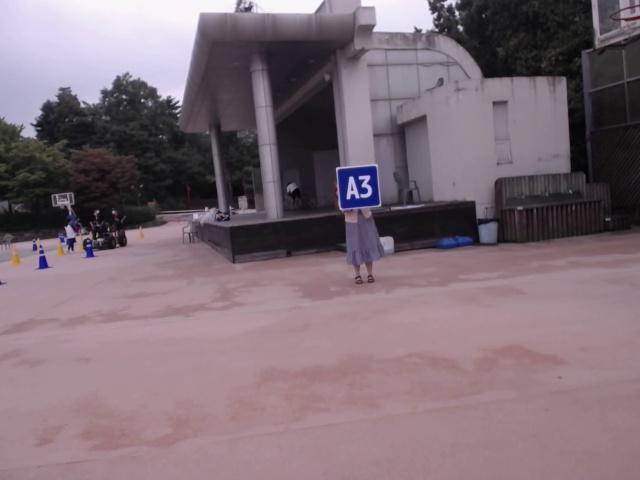delivery_a3: (336, 165, 381, 209)
